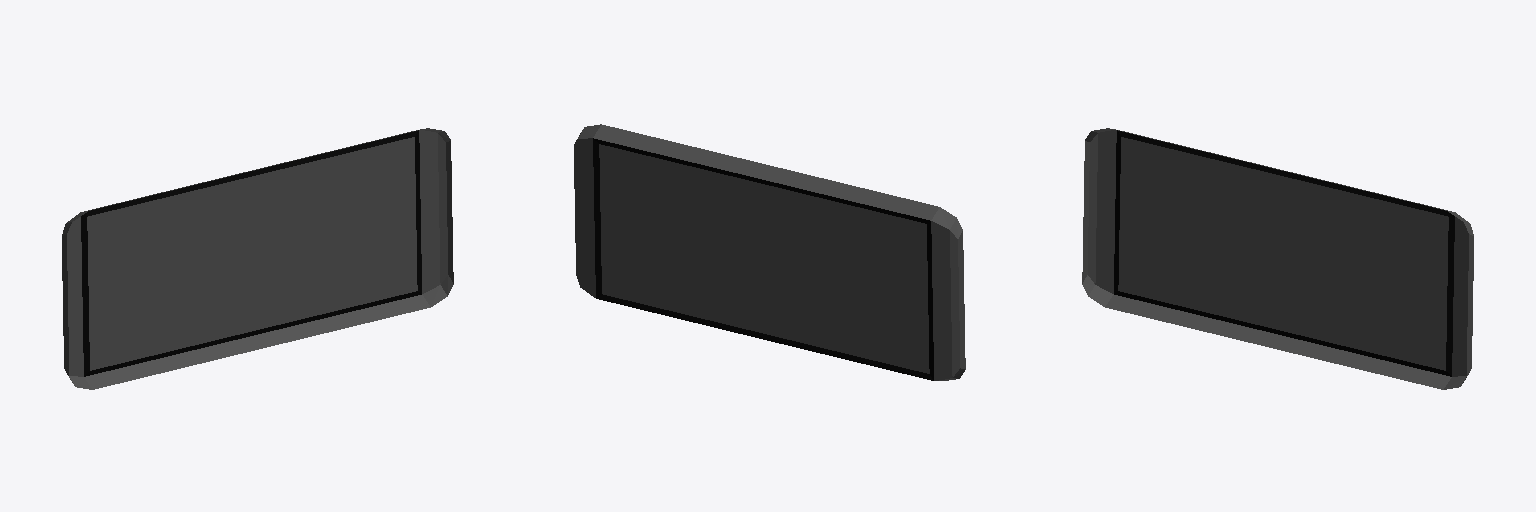
The model's file is Otro 2.obj.
3 views of the same model, side by side, from view 1: azimuth 30°, elevation 25°; view 2: azimuth 150°, elevation 25°; view 3: azimuth 330°, elevation 25° (orthographic).
Parts seen in each view (by area): view 1: Otro 2; view 2: Otro 2; view 3: Otro 2.
Part boxes in pixels (x1,y1,x2,y2): Otro 2: (62,128,453,389); Otro 2: (574,124,965,380); Otro 2: (1082,128,1473,389).
Size of the model in its own units: 4.06 by 1.78 by 0.2153.